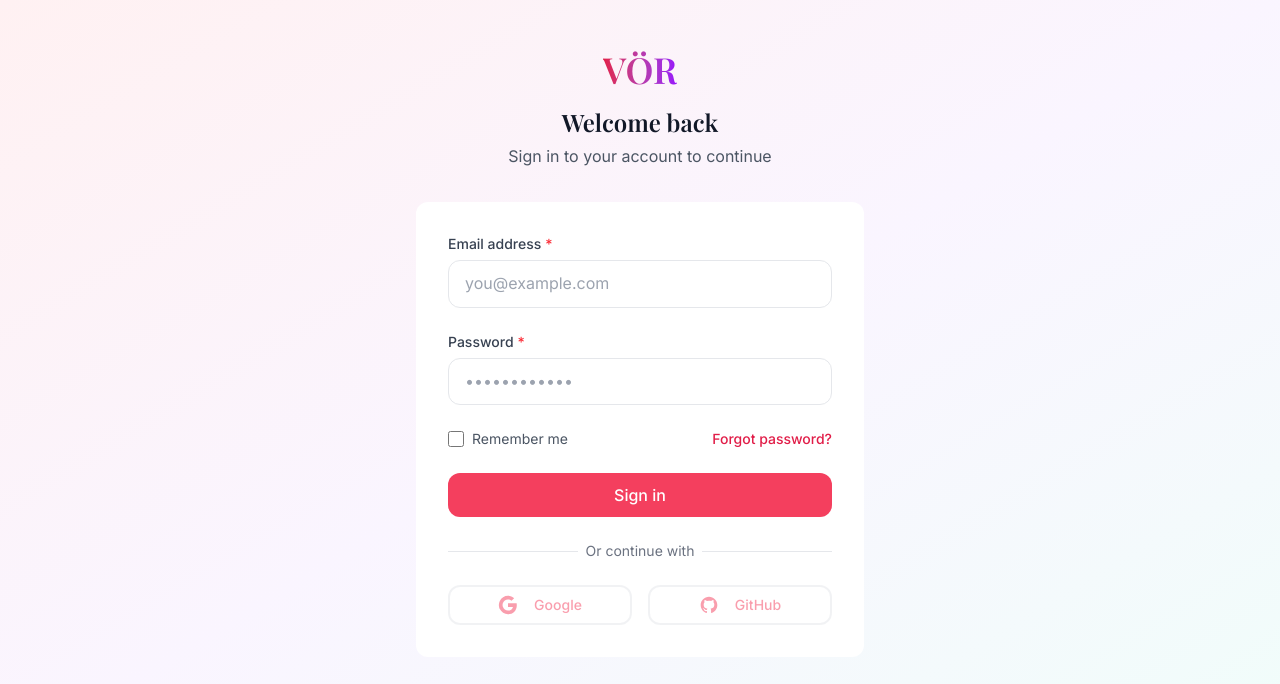
it: Authentication › Login Page › should show error for invalid credentials
Step 1. Type "invalid@example.com" into the field named "email" → (640, 284), box [448,260,832,308]
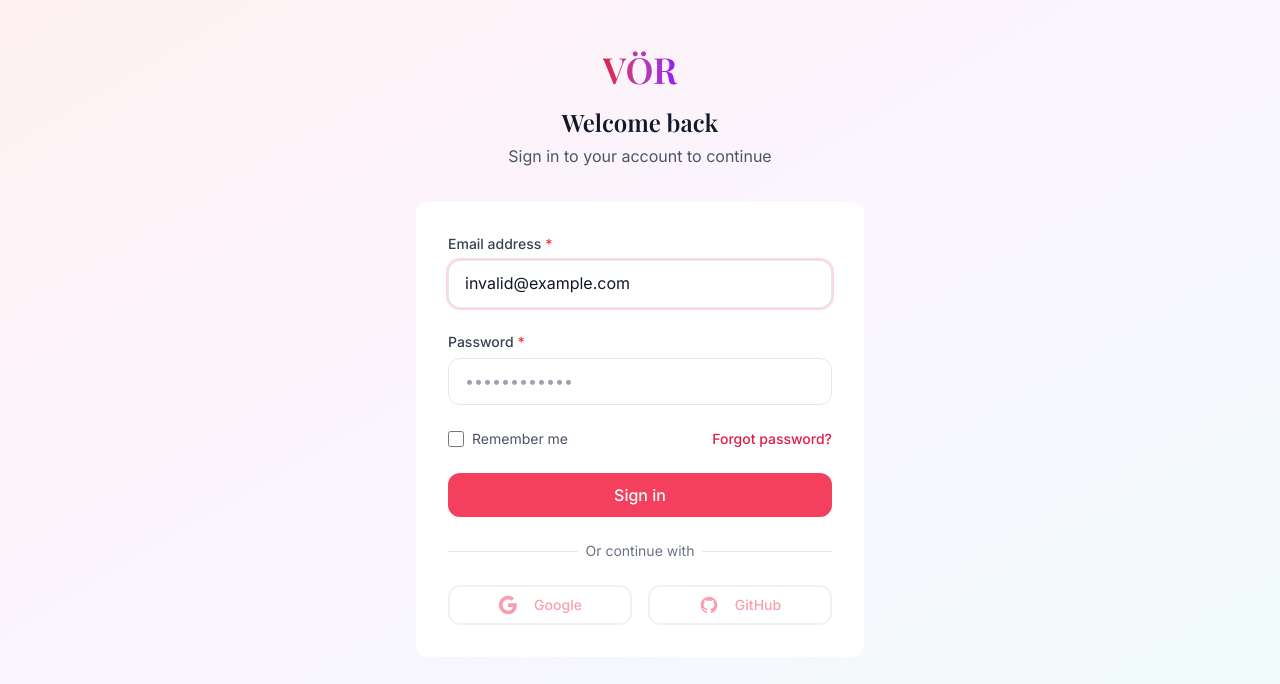
Step 2. Type "wrongpassword" into the password field named "password" → (640, 382), box [448,358,832,406]
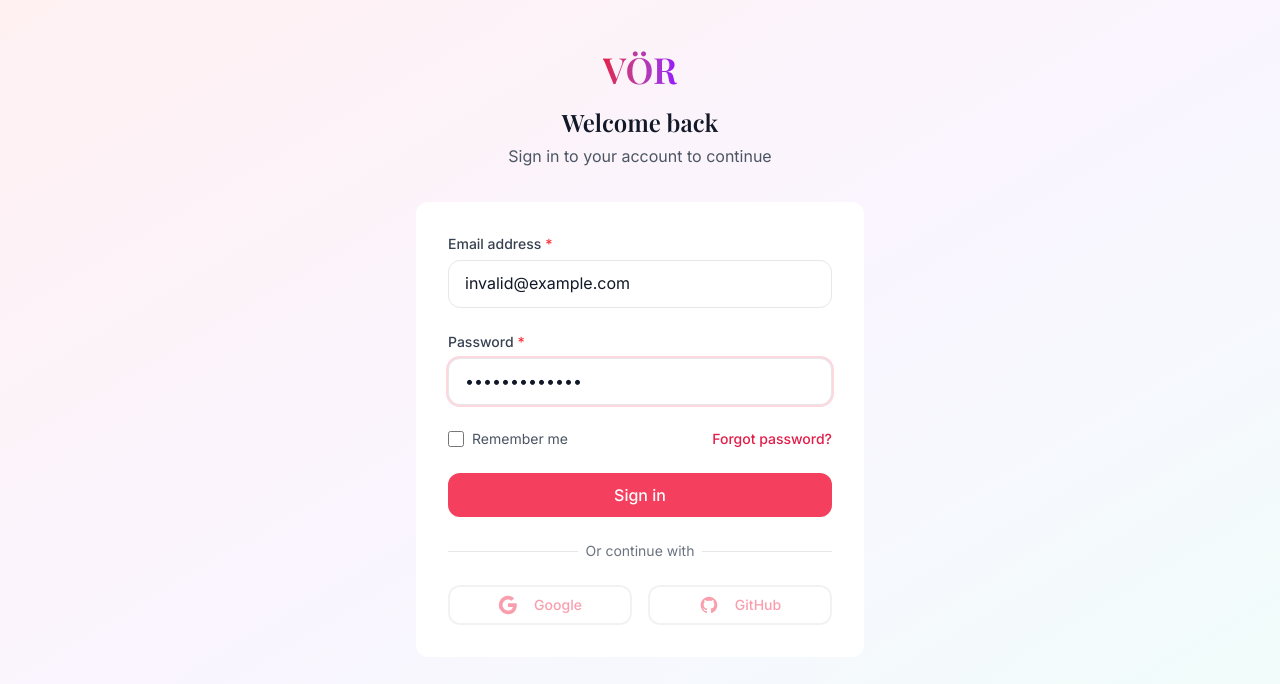
Step 3. Click the submit button → (640, 495), box [448,473,832,517]
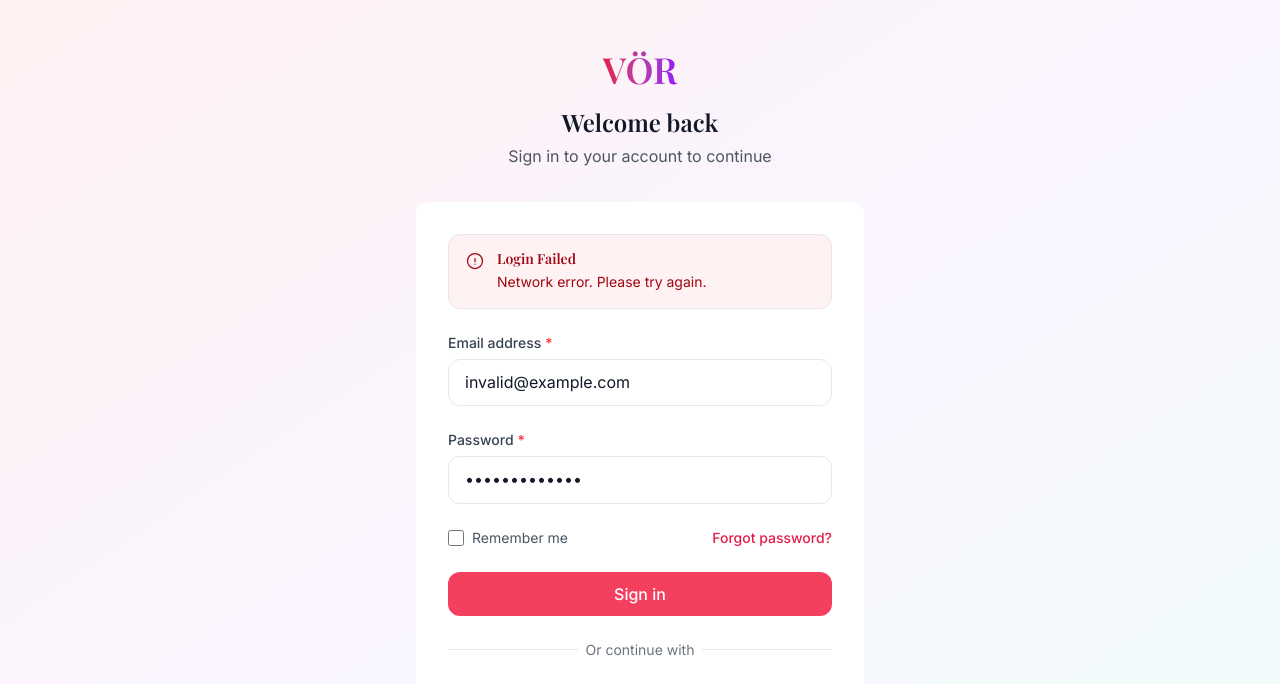
Expected: the text "Network error. Please try again." is shown, [497,273,706,290]
